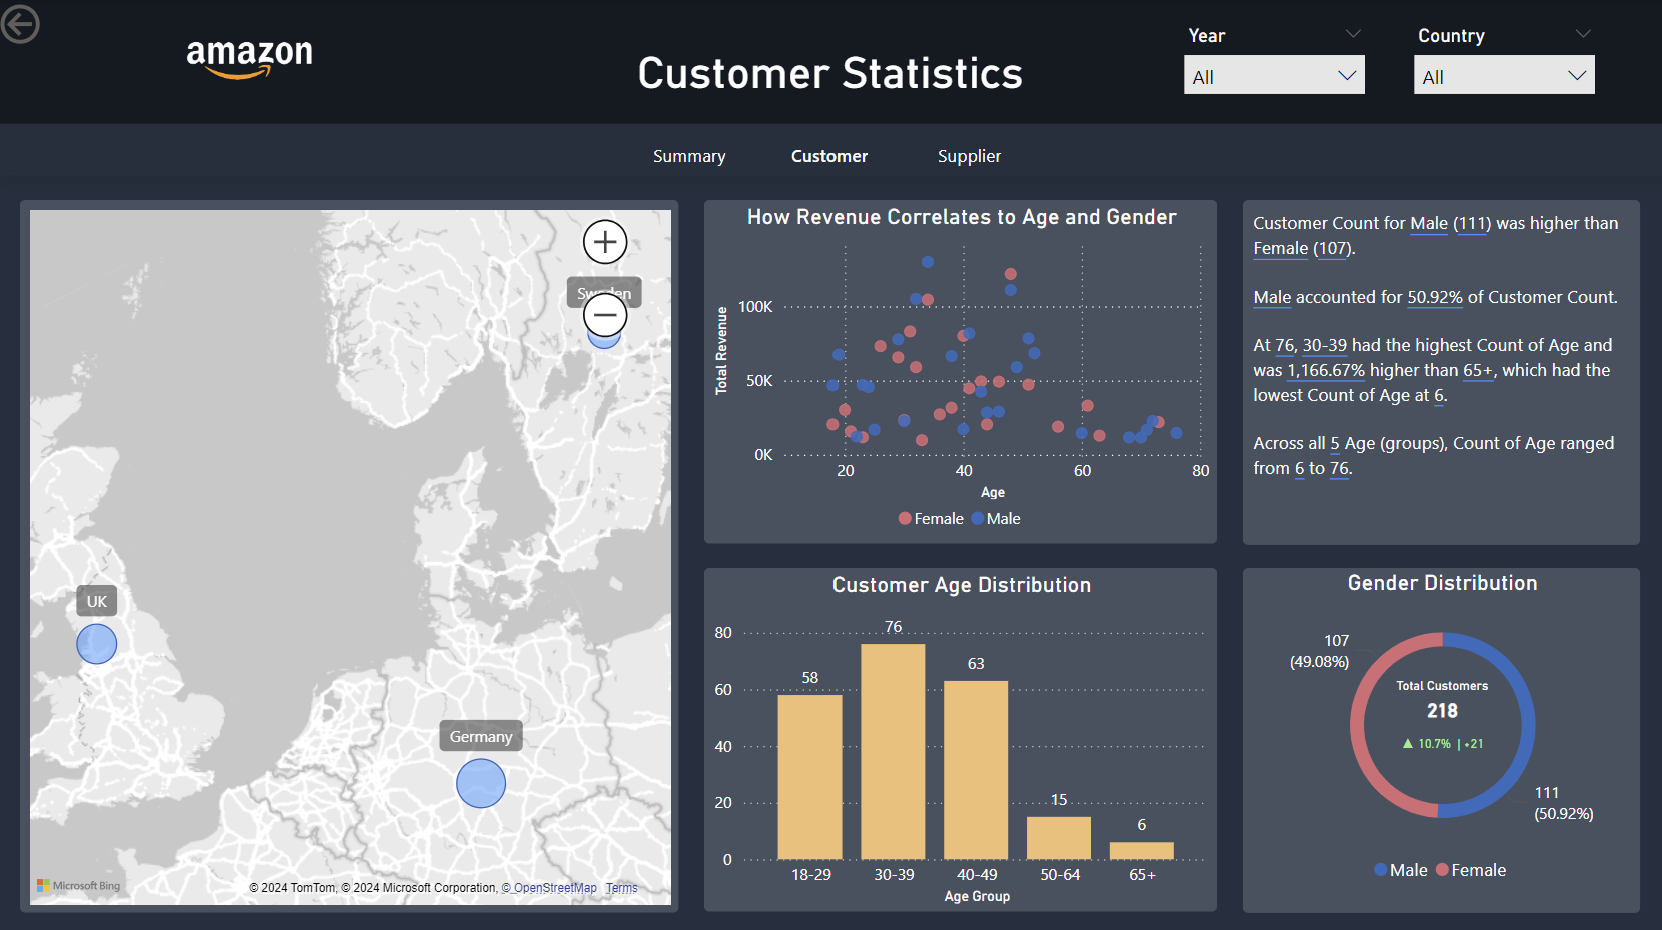

The dashboard page shown, as its layout file describes it:
{"tool":"powerbi","page":{"name":"Customer","canvas":[1280,720],"ordinal":1},"visuals":[{"type":"shape","box":[0,0,1280,96],"z":0},{"type":"shape","box":[0,96,1280,39],"z":1000},{"type":"pageNavigator","box":[484,104,312,32],"z":2000},{"type":"textbox","box":[0,32,1280,64],"z":3000},{"type":"image","box":[120,0,152,96],"z":4000},{"type":"slicer","fields":{"Values":["Date table.Date.Variation.Date Hierarchy.Year"]},"box":[896,16,168,72],"z":5000},{"type":"slicer","fields":{"Values":["Customer.Country"]},"box":[1072,16,168,72],"z":6000},{"type":"clusteredColumnChart","title":"Customer Age Distribution","fields":{"Category":["Customer.Age (groups)"],"Y":["CountNonNull(Customer.Age)"]},"box":[544,437,392,263],"z":7000},{"type":"donutChart","title":"Gender Distribution","fields":{"Category":["Customer.Gender"],"Y":["Measures Table.Customer Count"]},"box":[956,437,304,264],"z":8000},{"type":"map","fields":{"Category":["Customer.Country","Customer.City"],"Size":["Measures Table.Total Revenue"]},"box":[20,154.4,504,545.7],"z":9000},{"type":"card","title":"Total Customers","fields":{"Values":["Measures Table.Total Customers - vs PY"]},"box":[1064,520,88,72],"z":10000},{"type":"actionButton","box":[0,0,100,40],"z":11000},{"type":"textbox","box":[956,154,304,264],"z":12000},{"type":"scatterChart","title":"How Revenue Correlates to Age and Gender","fields":{"X":["Customer.Age"],"Y":["Measures Table.Total Revenue"],"Series":["Customer.Gender"]},"box":[544,154,392,263],"z":13000}]}

Visuals, with their boxes in screenshot pixels (x1, y1, x2, y2), scaled from the page's 1280x720 canvas onto the 1662x930 screenshot:
shape: box(0, 0, 1661, 124)
shape: box(0, 124, 1661, 174)
pageNavigator: box(628, 134, 1034, 176)
textbox: box(0, 41, 1661, 124)
image: box(156, 0, 353, 124)
slicer - Date table.Date.Variation.Date Hierarchy.Year: box(1163, 21, 1382, 114)
slicer - Customer.Country: box(1392, 21, 1610, 114)
"Customer Age Distribution" clusteredColumnChart: box(706, 564, 1215, 904)
"Gender Distribution" donutChart: box(1241, 564, 1636, 905)
map - Customer.Country x Customer.City: box(26, 199, 680, 904)
"Total Customers" card: box(1382, 672, 1496, 765)
actionButton: box(0, 0, 130, 52)
textbox: box(1241, 199, 1636, 540)
"How Revenue Correlates to Age and Gender" scatterChart: box(706, 199, 1215, 539)
